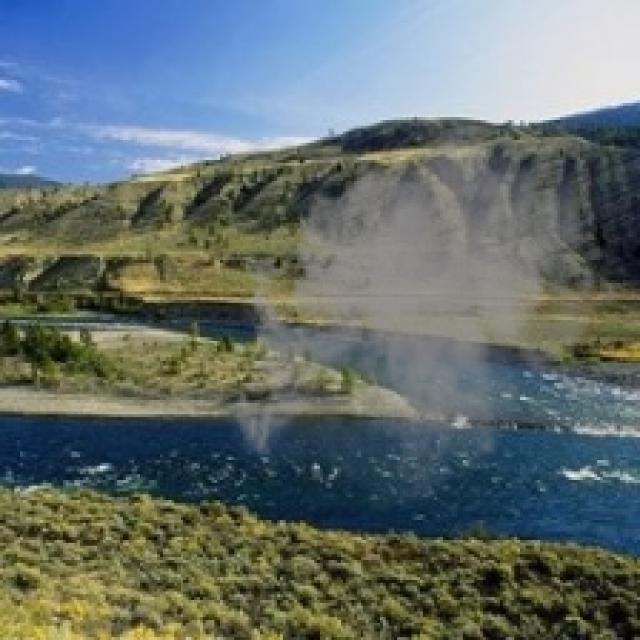smoke: (223, 108, 623, 526)
